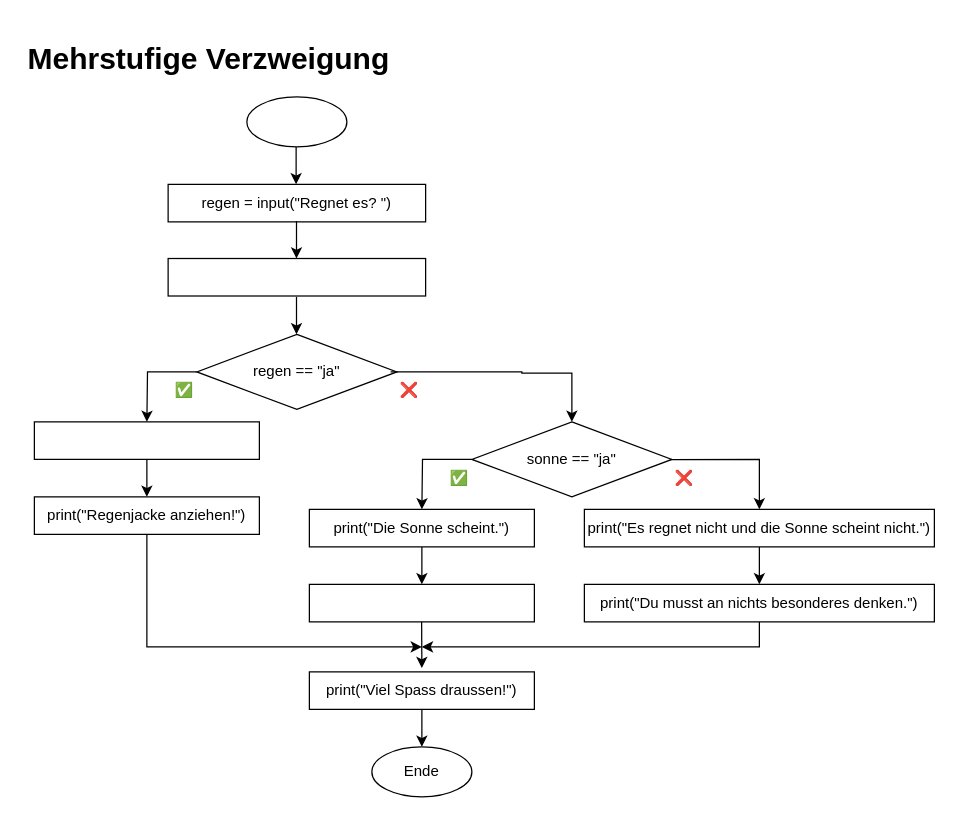
Image size: 956x819. Some labels were removed from this diagram. The shapes that lost their labels are listed below. From the top down, each one's centre as x and y in pixels, then its label:
point (296, 121): Start
point (296, 276): sonne = input("Scheint die Sonne? ")
point (146, 440): print("Es regnet.")
point (421, 602): print("Sonnenbrille anziehen!")
